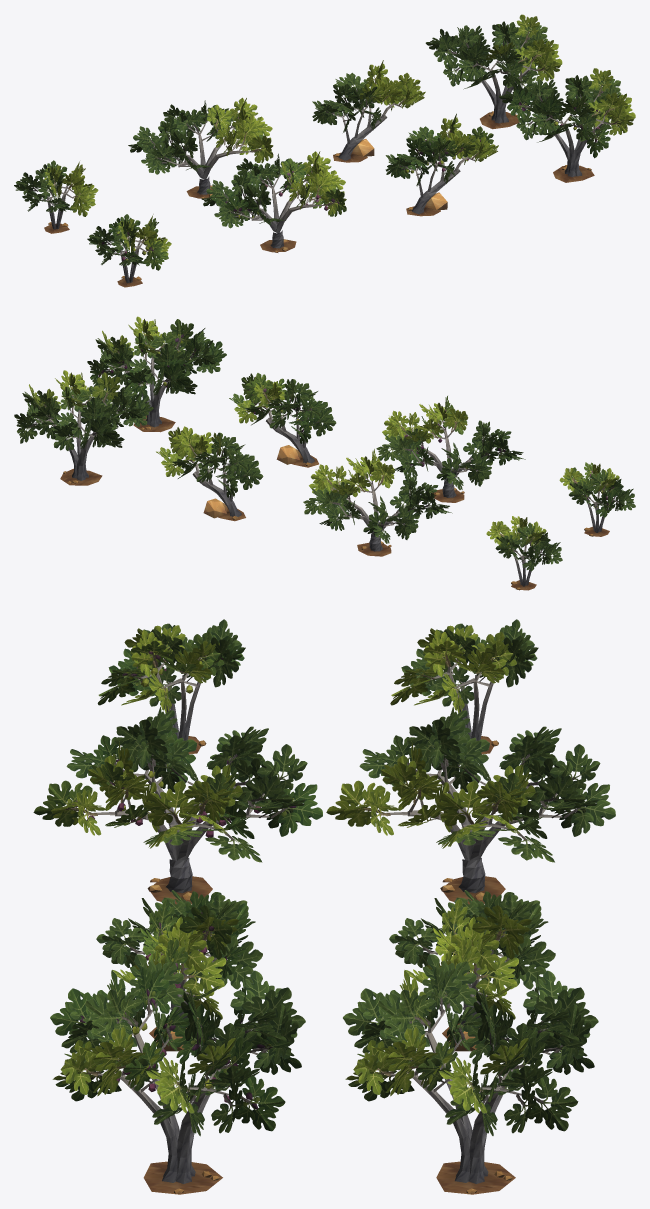
File: figueiras.glb
3 renders of one model, top to bottom at view 1: azimuth 30°, elevation 25°; view 2: azimuth 150°, elevation 25°; view 3: azimuth 270°, elevation 25°, orthographic. The views are drawn at different scales.
Visible parts, largest first — view 1: Figueira4_Grande_ComFruta, Figueira4_Grande_SemFruta, Figueira2_Larga_ComFruta, Figueira2_Larga_SemFruta, Figueira3_Encostada_ComFruta, Figueira3_Encostada_SemFruta, Figueira1_Jovem_ComFruta, Figueira1_Jovem_SemFruta; view 2: Figueira4_Grande_SemFruta, Figueira4_Grande_ComFruta, Figueira2_Larga_SemFruta, Figueira2_Larga_ComFruta, Figueira3_Encostada_ComFruta, Figueira3_Encostada_SemFruta, Figueira1_Jovem_ComFruta, Figueira1_Jovem_SemFruta; view 3: Figueira4_Grande_ComFruta, Figueira4_Grande_SemFruta, Figueira2_Larga_ComFruta, Figueira2_Larga_SemFruta, Figueira3_Encostada_ComFruta, Figueira3_Encostada_SemFruta, Figueira1_Jovem_ComFruta, Figueira1_Jovem_SemFruta.
Part boxes in pixels (<box>): Figueira4_Grande_ComFruta: <box>499,68,635,182</box>; Figueira4_Grande_SemFruta: <box>425,14,562,129</box>; Figueira2_Larga_ComFruta: <box>201,151,346,252</box>; Figueira2_Larga_SemFruta: <box>128,97,273,198</box>; Figueira3_Encostada_ComFruta: <box>385,113,498,216</box>; Figueira3_Encostada_SemFruta: <box>312,60,425,162</box>; Figueira1_Jovem_ComFruta: <box>87,214,171,287</box>; Figueira1_Jovem_SemFruta: <box>14,160,98,233</box>; Figueira4_Grande_SemFruta: <box>14,370,153,485</box>; Figueira4_Grande_ComFruta: <box>87,316,226,432</box>; Figueira2_Larga_SemFruta: <box>303,449,452,556</box>; Figueira2_Larga_ComFruta: <box>376,396,525,502</box>; Figueira3_Encostada_ComFruta: <box>229,373,336,467</box>; Figueira3_Encostada_SemFruta: <box>156,426,263,521</box>; Figueira1_Jovem_ComFruta: <box>559,462,635,536</box>; Figueira1_Jovem_SemFruta: <box>486,516,562,590</box>; Figueira4_Grande_ComFruta: <box>50,954,305,1194</box>; Figueira4_Grande_SemFruta: <box>343,954,598,1194</box>; Figueira2_Larga_ComFruta: <box>33,706,322,904</box>; Figueira2_Larga_SemFruta: <box>326,706,615,904</box>; Figueira3_Encostada_ComFruta: <box>96,890,262,1051</box>; Figueira3_Encostada_SemFruta: <box>389,890,555,1051</box>; Figueira1_Jovem_ComFruta: <box>97,619,245,754</box>; Figueira1_Jovem_SemFruta: <box>390,619,538,754</box>.
Bounding box in the file's own units: 25.08 × 4.38 × 11.94.
Materials: 2 (2 with a texture image).
